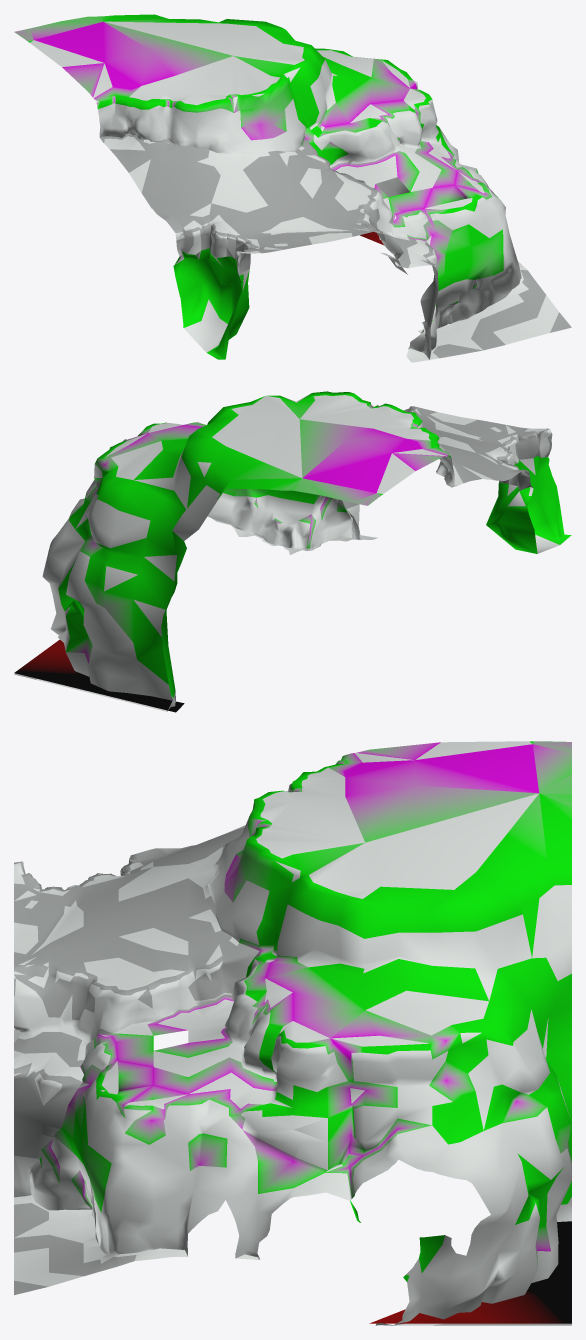
3 views of the same model, one above another, from view 1: azimuth 30°, elevation 25°; view 2: azimuth 150°, elevation 25°; view 3: azimuth 270°, elevation 25° (orthographic). The views are drawn at different scales.
Visible parts, largest first — view 1: G:\FFXIV-MapTools\exports\f1f1\bg\ffxiv\fst_f1\fld\f1f1\bgpl (×18); view 2: G:\FFXIV-MapTools\exports\f1f1\bg\ffxiv\fst_f1\fld\f1f1\bgpl (×14); view 3: G:\FFXIV-MapTools\exports\f1f1\bg\ffxiv\fst_f1\fld\f1f1\bgpl (×20).
Boxes of the visible parts, <box> form: G:\FFXIV-MapTools\exports\f1f1\bg\ffxiv\fst_f1\fld\f1f1\bgpl (×18): <box>14,14,571,362</box>; G:\FFXIV-MapTools\exports\f1f1\bg\ffxiv\fst_f1\fld\f1f1\bgpl (×14): <box>14,391,571,712</box>; G:\FFXIV-MapTools\exports\f1f1\bg\ffxiv\fst_f1\fld\f1f1\bgpl (×20): <box>14,741,571,1325</box>.
Size of the model in its own units: 128 by 90.12 by 128.
